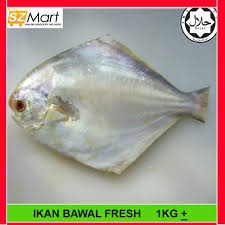Ikan Bawal: (10, 35, 207, 172)
